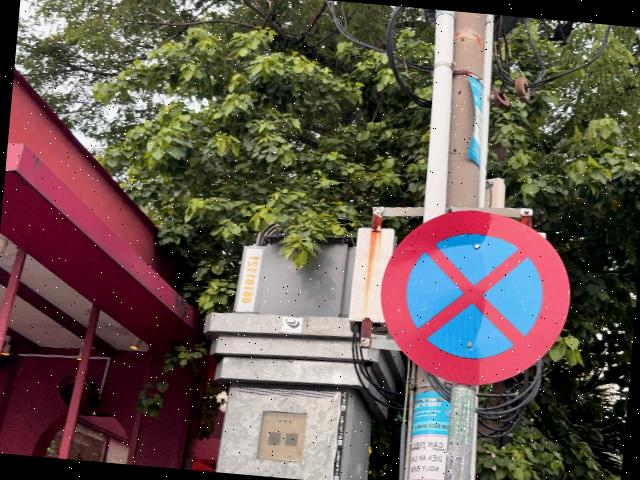cam-dung-va-do-xe: (372, 202, 578, 394)
